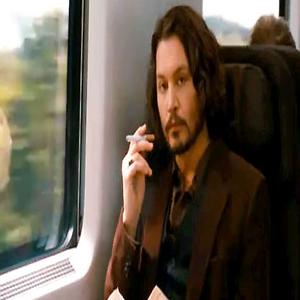cigarette: (127, 135, 156, 142)
